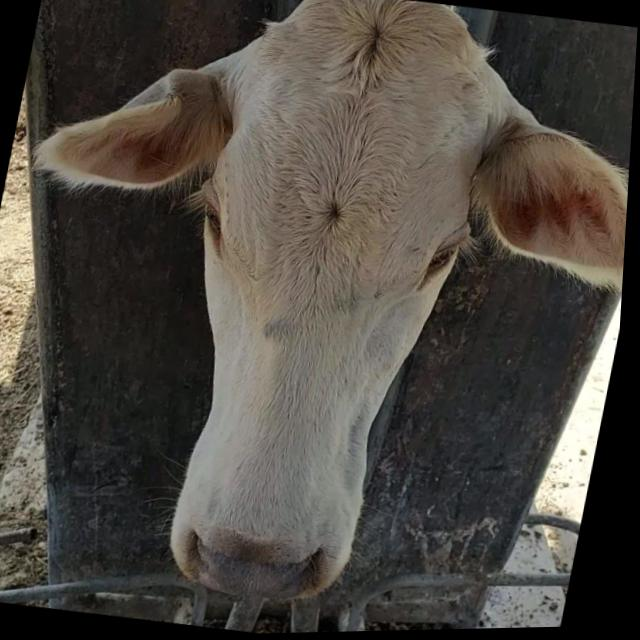cowFace: (134, 0, 515, 615)
